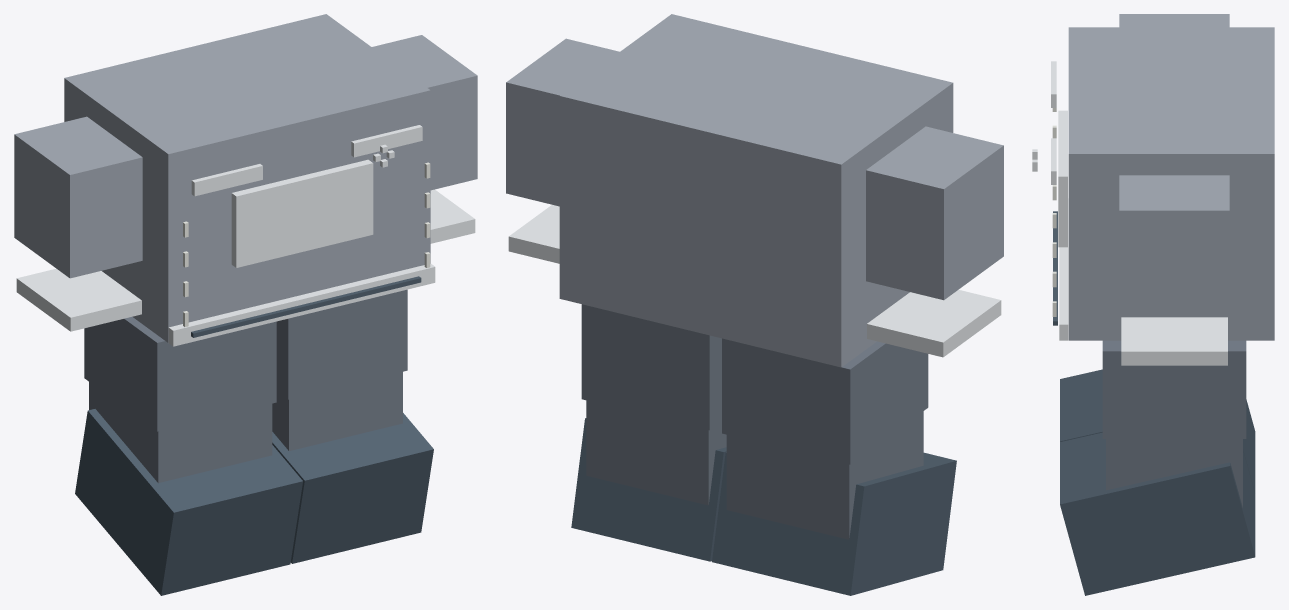
Rendered from casual-slate.glb.
The picture shows the model from 3 angles, left to right: view 1: azimuth 30°, elevation 25°; view 2: azimuth 150°, elevation 25°; view 3: azimuth 270°, elevation 25°; orthographic projection. The views are drawn at different scales.
Visible parts, largest first — view 1: jacket, shoe-Right, upper-sleeve-Right, trouser-Right, shoe-Left, tee-panel, trouser-Left, lower-trouser-Right, upper-sleeve-Left, lower-trouser-Left, cuff-Right, tee-hem (+4 smaller); view 2: jacket, upper-sleeve-Right, trouser-Right, shoe-Right, trouser-Left, lower-trouser-Right, lower-trouser-Left, upper-sleeve-Left, shoe-Left, cuff-Right, cuff-Left; view 3: jacket, shoe-Left, upper-sleeve-Left, trouser-Left, lower-trouser-Left, cuff-Left, shoe-Right, upper-sleeve-Right, tee-panel, tee-hem, design-casual-double-hem.
Part boxes in pixels (<box>): jacket: <box>64,14,430,342</box>; shoe-Right: <box>75,409,302,595</box>; upper-sleeve-Right: <box>14,116,142,278</box>; trouser-Right: <box>84,317,276,431</box>; shoe-Left: <box>272,413,433,563</box>; tee-panel: <box>231,159,373,267</box>; trouser-Left: <box>276,289,407,399</box>; lower-trouser-Right: <box>89,382,272,482</box>; upper-sleeve-Left: <box>372,35,477,190</box>; lower-trouser-Left: <box>272,372,402,451</box>; cuff-Right: <box>16,268,141,331</box>; tee-hem: <box>168,263,435,346</box>; jacket: <box>559,14,953,367</box>; upper-sleeve-Right: <box>866,126,1003,300</box>; trouser-Right: <box>722,338,928,464</box>; shoe-Right: <box>712,452,956,595</box>; trouser-Left: <box>581,304,721,430</box>; lower-trouser-Right: <box>726,411,923,539</box>; lower-trouser-Left: <box>586,400,726,505</box>; upper-sleeve-Left: <box>506,38,619,206</box>; shoe-Left: <box>571,418,726,561</box>; cuff-Right: <box>867,289,1001,357</box>; cuff-Left: <box>508,204,559,263</box>; jacket: <box>1068,27,1274,340</box>; shoe-Left: <box>1060,432,1255,595</box>; upper-sleeve-Left: <box>1119,175,1229,312</box>; trouser-Left: <box>1102,340,1246,438</box>; lower-trouser-Left: <box>1106,439,1242,507</box>; cuff-Left: <box>1121,317,1227,365</box>; shoe-Right: <box>1060,369,1255,493</box>; upper-sleeve-Right: <box>1119,14,1229,27</box>; tee-panel: <box>1058,110,1067,247</box>; tee-hem: <box>1059,198,1068,340</box>; design-casual-double-hem: <box>1053,211,1057,325</box>.
Bounding box in the file's own units: 1.07 × 1.13 × 0.559.
